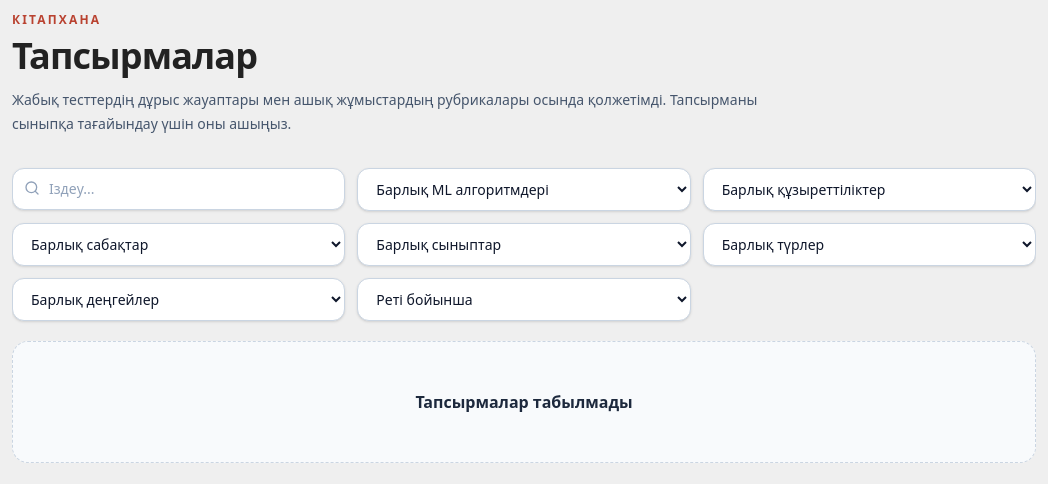
Test case: filters teacher tasks by lesson
This screenshot has width=1048, height=484.
Select "Бірінші сабақ" in the dropdown named "Сабақ". click: coordinates (179, 244)
box: [12,223,345,266]
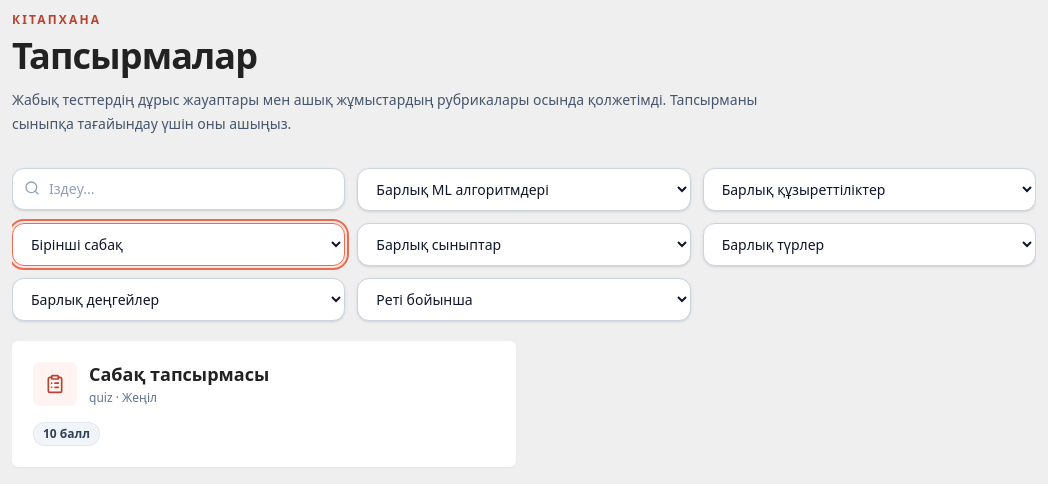
Check: the link "Сабақ тапсырмасы quiz · Жеңіл 10 балл" is shown, box [12,341,516,467]
